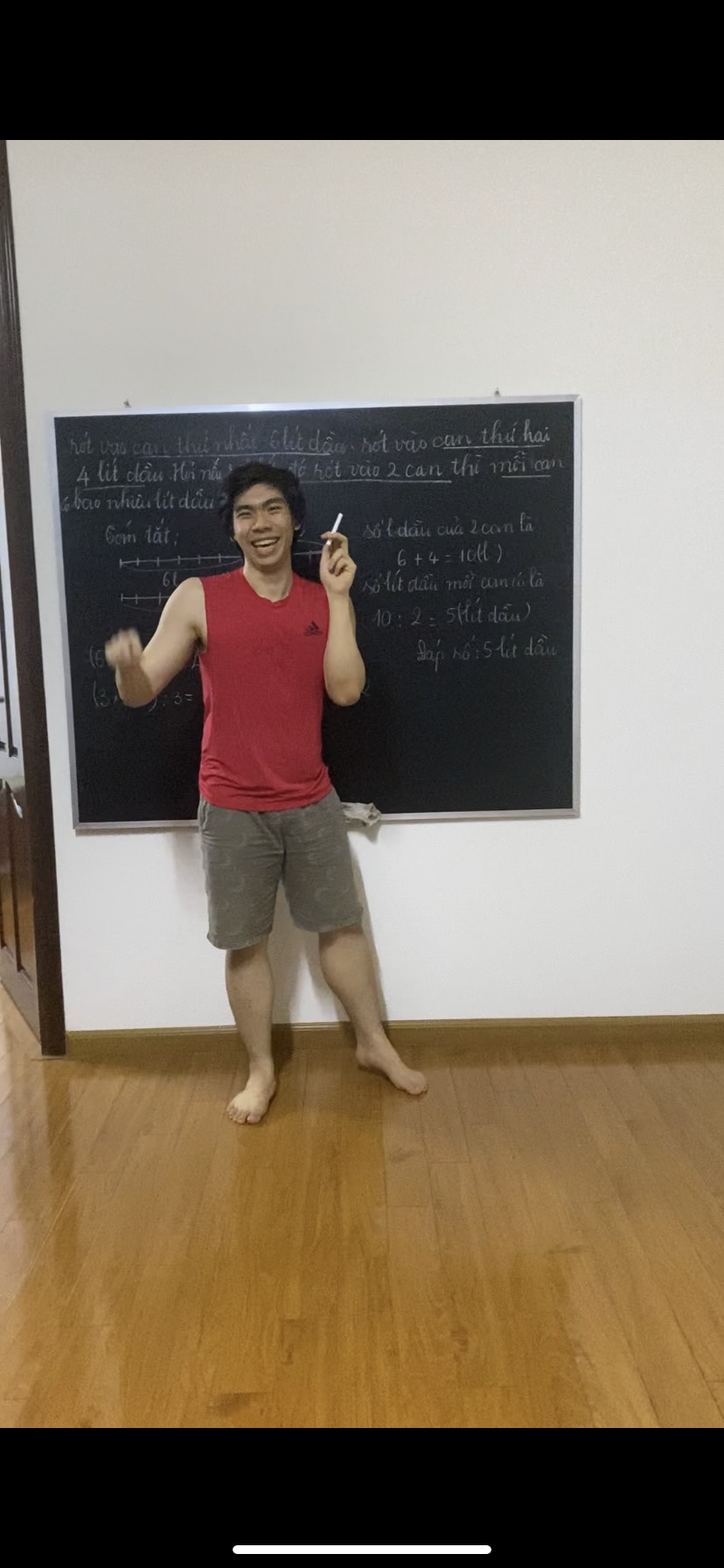cigarette: (330, 509, 347, 534)
person: (88, 443, 432, 1130)
